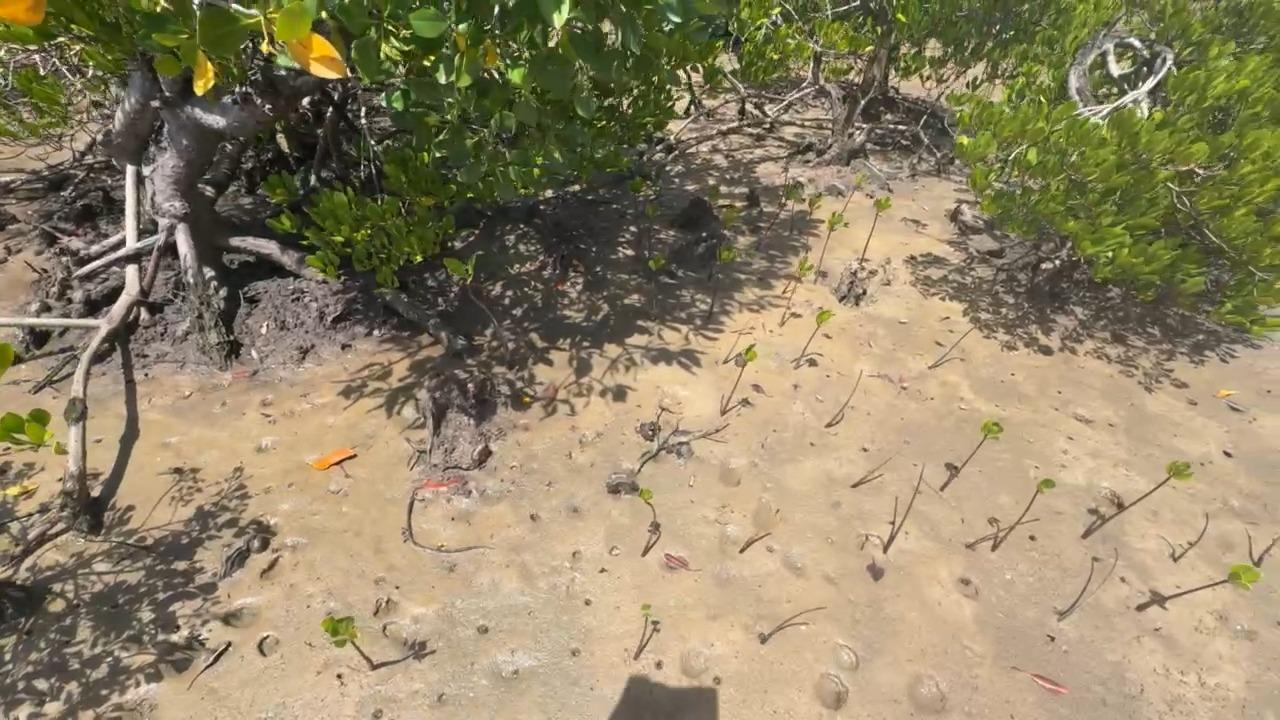Tree: (1081, 459, 1194, 539), (1135, 563, 1265, 613), (992, 478, 1056, 552), (940, 420, 1003, 491), (322, 616, 375, 671), (721, 342, 758, 416), (778, 254, 814, 328), (792, 310, 836, 370), (859, 196, 892, 265), (814, 211, 844, 285), (638, 487, 656, 557), (633, 603, 653, 660), (805, 193, 822, 257), (842, 173, 865, 214), (786, 188, 802, 234), (630, 175, 642, 210)
